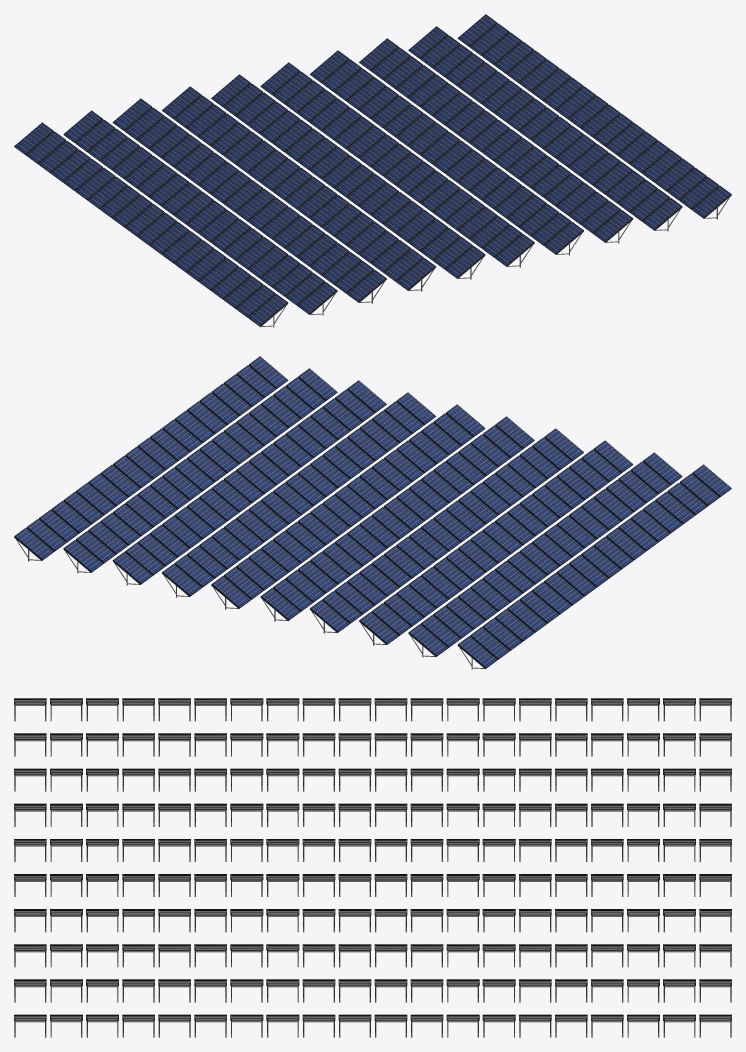
The model's file is solar_panel_10x20.glb.
The picture shows the model from 3 angles, top to bottom: view 1: azimuth 30°, elevation 25°; view 2: azimuth 150°, elevation 25°; view 3: azimuth 270°, elevation 25°; orthographic projection. The views are drawn at different scales.
Parts seen in each view (by area): view 1: Plane.009_9, Plane.007_7, Plane.008_8, Plane.004_4, Plane.005_5, Plane.003_3, Plane_0, Plane.002_2, Plane.001_1, Plane.006_6, Plane.174_174, Plane.193_193 (+188 smaller); view 2: Plane.199_199, Plane.197_197, Plane.198_198, Plane.194_194, Plane.195_195, Plane.193_193, Plane.190_190, Plane.192_192, Plane.191_191, Plane.196_196, Plane.003_3, Plane.024_24 (+188 smaller); view 3: no part large enough to name.
Part boxes in pixels (left/top/right/bottom): Plane.009_9: left=692, top=186, right=731, bottom=219; Plane.007_7: left=593, top=210, right=633, bottom=243; Plane.008_8: left=643, top=198, right=682, bottom=231; Plane.004_4: left=446, top=246, right=485, bottom=279; Plane.005_5: left=495, top=234, right=534, bottom=267; Plane.003_3: left=396, top=258, right=435, bottom=291; Plane_0: left=248, top=294, right=288, bottom=327; Plane.002_2: left=347, top=270, right=386, bottom=303; Plane.001_1: left=298, top=282, right=337, bottom=315; Plane.006_6: left=544, top=222, right=583, bottom=255; Plane.174_174: left=236, top=92, right=275, bottom=125; Plane.193_193: left=162, top=86, right=201, bottom=119; Plane.199_199: left=14, top=528, right=53, bottom=561; Plane.197_197: left=112, top=552, right=152, bottom=585; Plane.198_198: left=63, top=540, right=102, bottom=573; Plane.194_194: left=260, top=588, right=299, bottom=621; Plane.195_195: left=211, top=576, right=250, bottom=609; Plane.193_193: left=310, top=600, right=349, bottom=633; Plane.190_190: left=457, top=636, right=497, bottom=669; Plane.192_192: left=359, top=612, right=398, bottom=645; Plane.191_191: left=408, top=624, right=447, bottom=657; Plane.196_196: left=162, top=564, right=201, bottom=597; Plane.003_3: left=544, top=428, right=583, bottom=461; Plane.024_24: left=470, top=434, right=509, bottom=467.
Bounding box in the file's own units: 25.01 × 1.13 × 22.52.
1 material, 1 textured.
